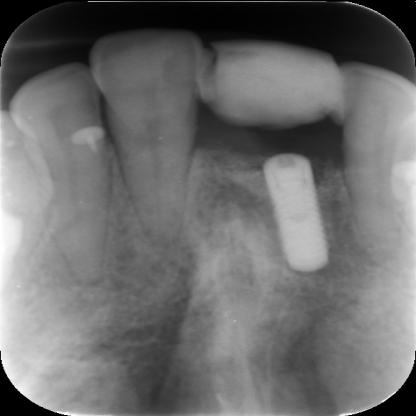ITI: (260, 144, 334, 280)
